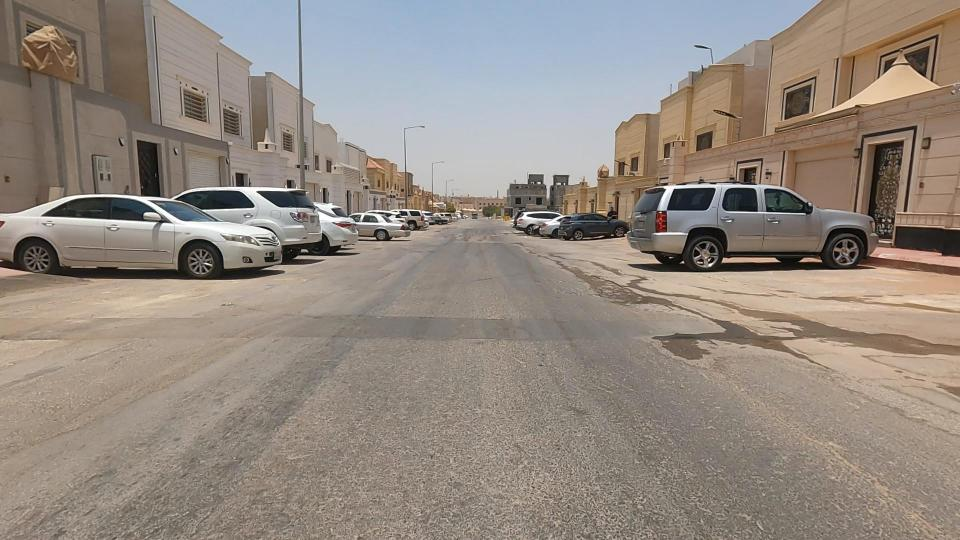POTHOLES: (626, 283, 780, 382), (562, 241, 659, 333), (437, 214, 520, 273)
